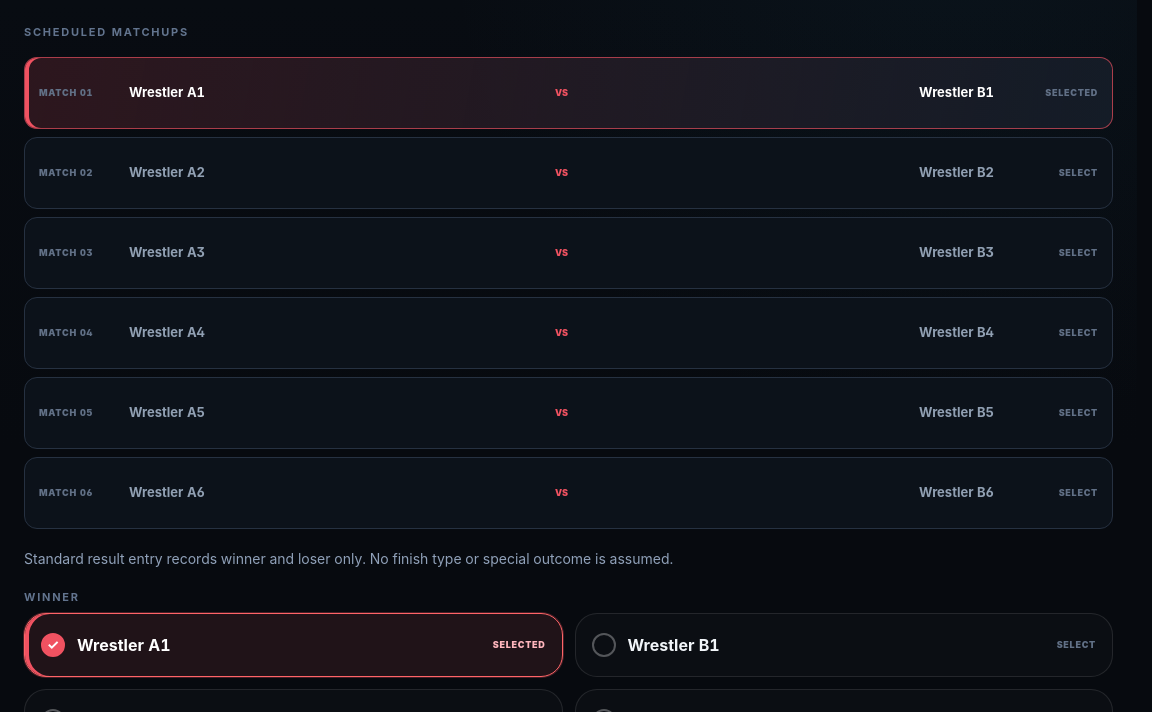
ResultEntryForm winner selection › shows a selected state for Wrestler B1
The width and height of the screenshot is (1152, 712).
What coordinates should you click on to do the following:
click the radio button labelled "Wrestler B1 Select"
I would click on:
 (674, 645)
Its box is [574, 613, 1113, 677].
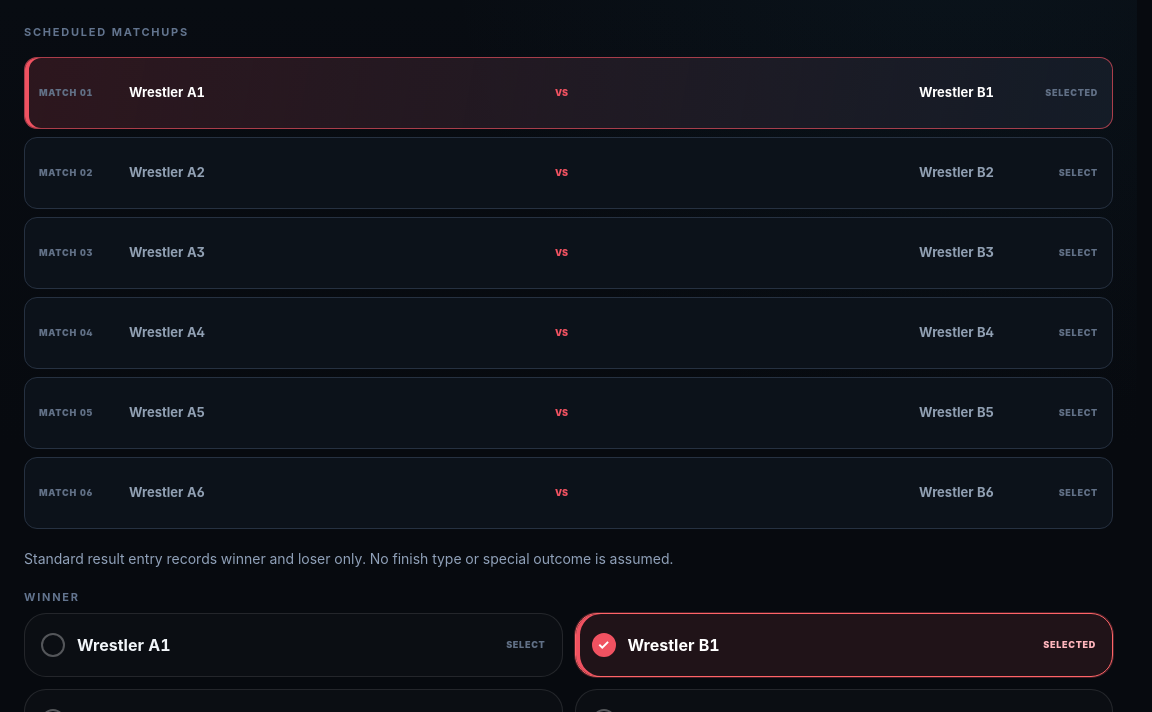
Now the radio button labelled "✓ Wrestler B1 Selected" is checked, box [574, 613, 1113, 677]
Now the radio button labelled "✓ Wrestler B1 Selected" is shown, box [574, 613, 1113, 677]
